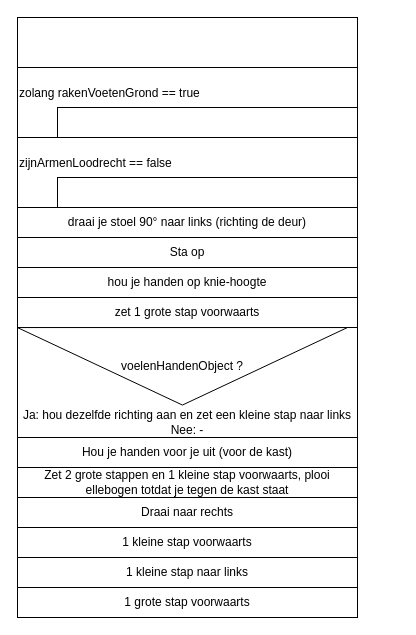
The diagram is 416 pixels wide and 635 high, and some of its shapes have lost their labels. Each missing label, with the centre of its shape:
"duw je rustig weg van het bureau met je armen (met hulp van je benen)" goes at point (207, 192).
"Plaats je handen aan het begin van het bureau" goes at point (187, 42).
"voeten zo veel mogelijk naar achter schuiven" goes at point (207, 122).
